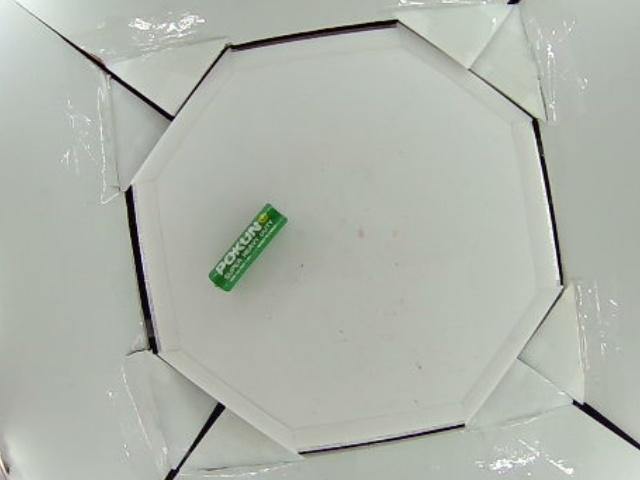Battery: (208, 203, 288, 294)
